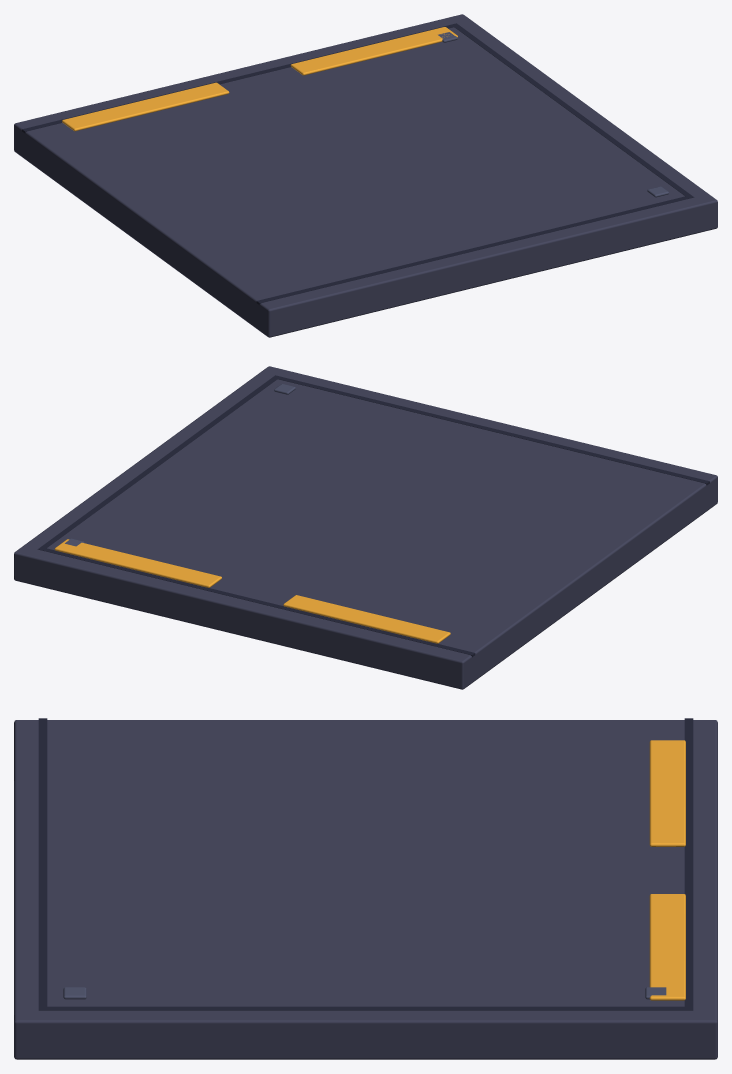
Rendered from floor.plate.ESN+hzdn.glb.
3 renders of one model, top to bottom at view 1: azimuth 30°, elevation 25°; view 2: azimuth 150°, elevation 25°; view 3: azimuth 270°, elevation 25°, orthographic. The views are drawn at different scales.
Parts seen in each view (by area): view 1: floor.plate.ESN+hzdn; view 2: floor.plate.ESN+hzdn; view 3: floor.plate.ESN+hzdn.
Boxes of the visible parts, <box> form: floor.plate.ESN+hzdn: <box>14,14,717,337</box>; floor.plate.ESN+hzdn: <box>14,366,717,689</box>; floor.plate.ESN+hzdn: <box>14,718,717,1059</box>.
Bounding box in the file's own units: 0.984 × 0.066 × 0.968.
